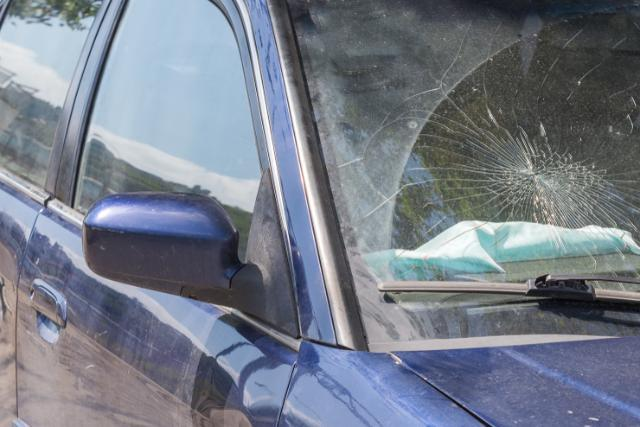Windshield: (302, 6, 640, 322)
